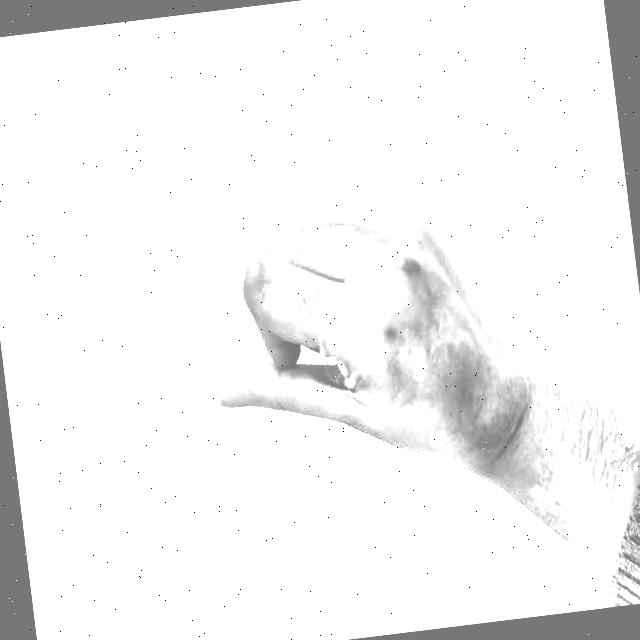Ay: (161, 143, 506, 551)
